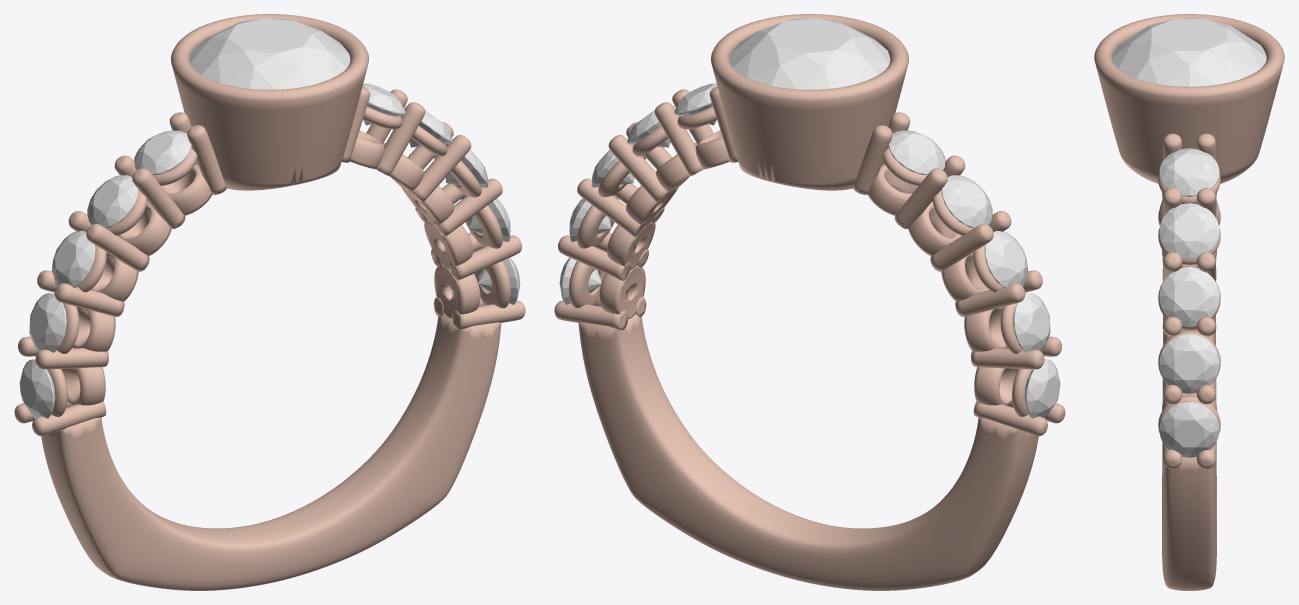
File: diamond-round-rosegold-bezelset-europeanshank-5stone.glb
The picture shows the model from 3 angles, left to right: view 1: azimuth 30°, elevation 25°; view 2: azimuth 150°, elevation 25°; view 3: azimuth 270°, elevation 25°; orthographic projection. The views are drawn at different scales.
Visible parts, largest first — view 1: metal, stone, side.006, side.007, side.005, side.008, side.009, side, side.001, side.004, side.003; view 2: metal, stone, side.006, side.007, side.005, side.008, side.009, side, side.001, side.004, side.003; view 3: metal, stone, side.003, side.002, side.001, side.004, side.
Part boxes in pixels (x1,y1,x2,y2): metal: [14, 14, 525, 590]; stone: [189, 18, 350, 89]; side.006: [87, 175, 138, 227]; side.007: [51, 230, 95, 287]; side.005: [134, 130, 191, 174]; side.008: [29, 293, 67, 352]; side.009: [19, 359, 55, 418]; side: [362, 83, 405, 125]; side.001: [403, 106, 452, 147]; side.004: [478, 257, 520, 304]; side.003: [469, 198, 510, 241]; metal: [554, 14, 1065, 590]; stone: [729, 18, 890, 89]; side.006: [941, 175, 992, 227]; side.007: [984, 230, 1028, 287]; side.005: [888, 130, 945, 174]; side.008: [1012, 293, 1050, 352]; side.009: [1024, 359, 1060, 418]; side: [674, 83, 717, 125]; side.001: [627, 106, 676, 147]; side.004: [559, 257, 601, 304]; side.003: [569, 198, 610, 241]; metal: [1094, 14, 1284, 590]; stone: [1112, 18, 1266, 86]; side.003: [1159, 334, 1219, 393]; side.002: [1159, 267, 1219, 326]; side.001: [1159, 203, 1219, 259]; side.004: [1159, 402, 1219, 457]; side: [1159, 148, 1219, 196].
Bounding box in the file's own units: 22.63 × 23.81 × 7.94.
